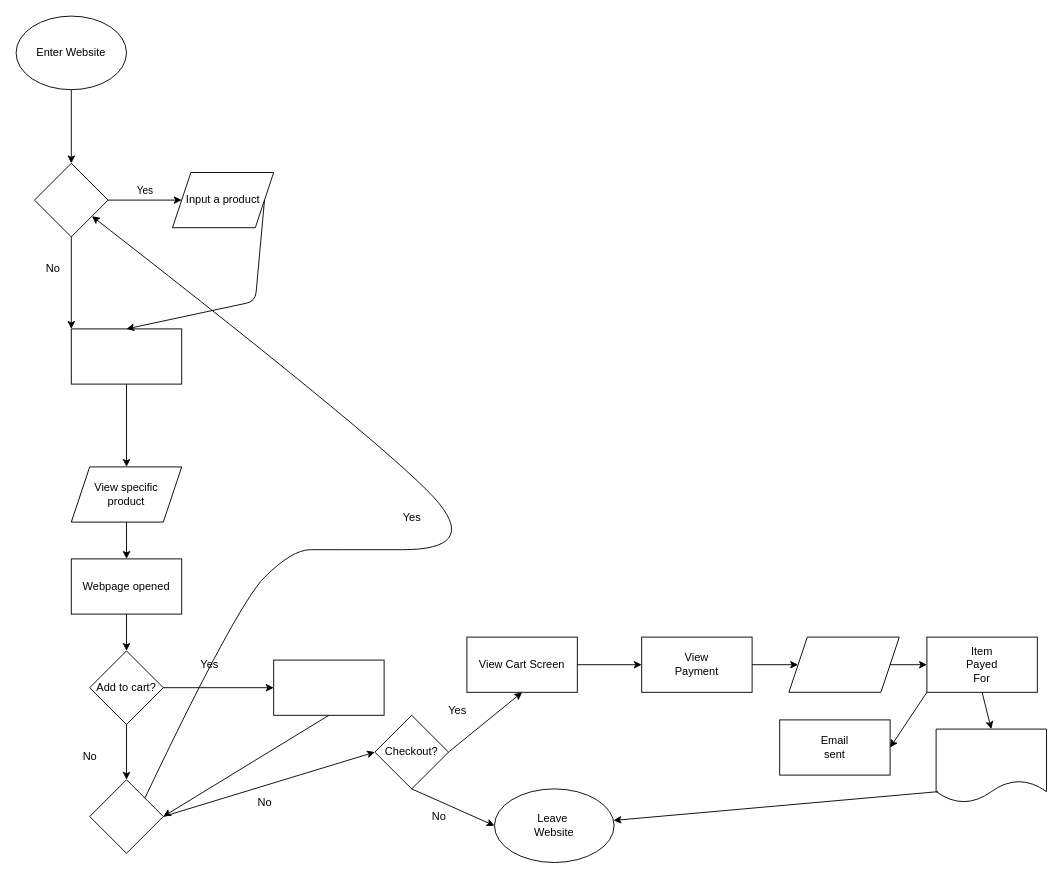
Some shapes in this 1063 by 879 pixel diagram are drawn without their labels. Each missing label, with the centre of its shape:
Confirmation: pixel 990 765
Continue Shopping?: pixel 126 816
Input Payment Info: pixel 843 664
Item added to cart: pixel 328 687
Look over products: pixel 126 356
Search for a product?: pixel 71 199
